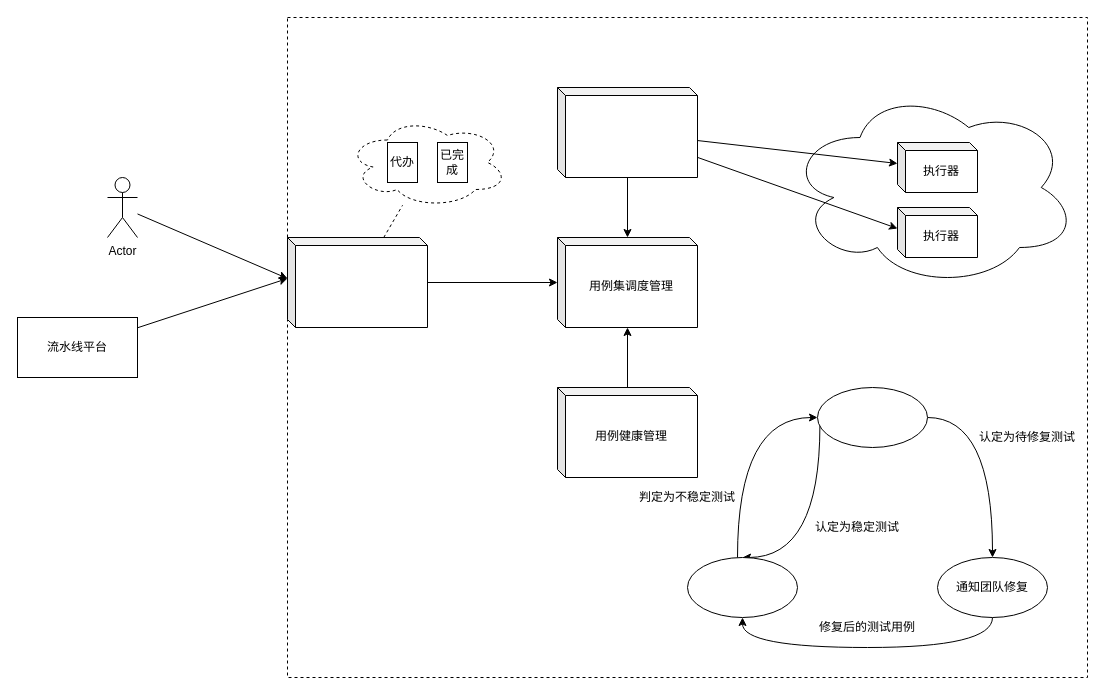
This 1105x695 diagram has some shape labels left out. Here are the shapes that lost their labels. From the top down, the centre of each, then its label:
At (627,132): "测试集群管理".
At (357,282): "测试管理服务".
At (872,417): "不稳定用例池".
At (742,587): "健康用例池".
